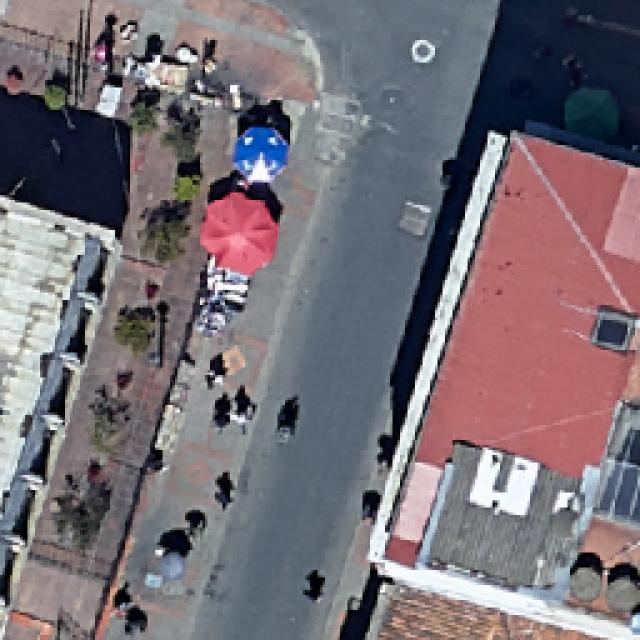vendedor_ambulante: (198, 186, 278, 280), (230, 124, 291, 184)
